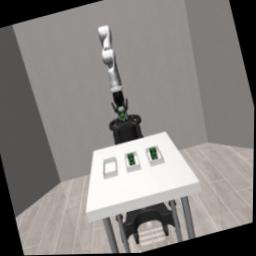cube1: (119, 110, 128, 122)
cube2: (127, 153, 136, 167)
cube3: (149, 146, 159, 161)
